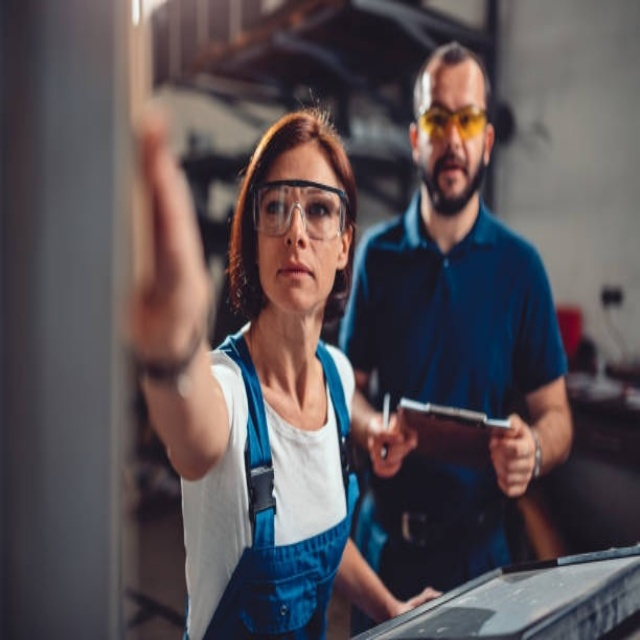Gafas: (253, 182, 350, 240), (417, 105, 488, 142)
Sin_guantes: (488, 413, 538, 498), (365, 402, 415, 477)
Sin_mascara: (271, 253, 320, 301), (434, 152, 466, 202)
